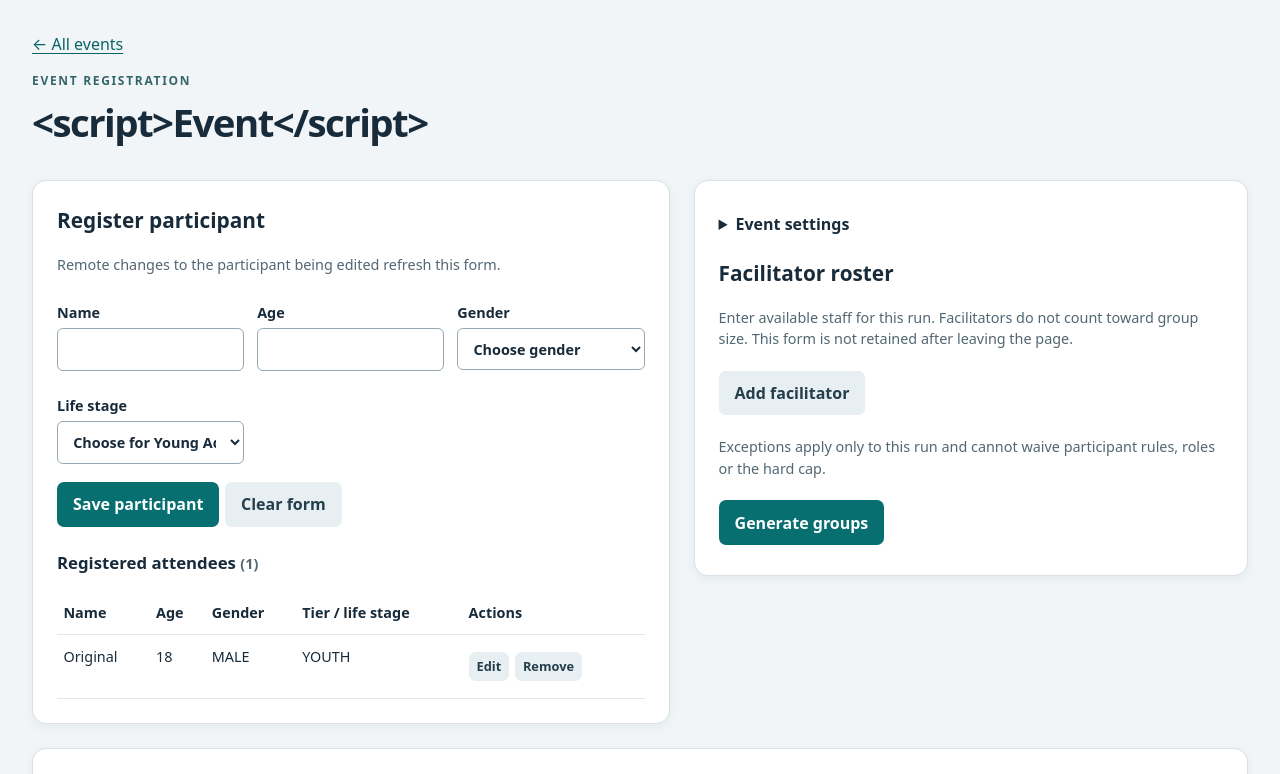
preserves participant drafts when remote configuration changes only the derived tier
Step 1. Click the button "Edit" → click(489, 666), box [469,652,509,681]
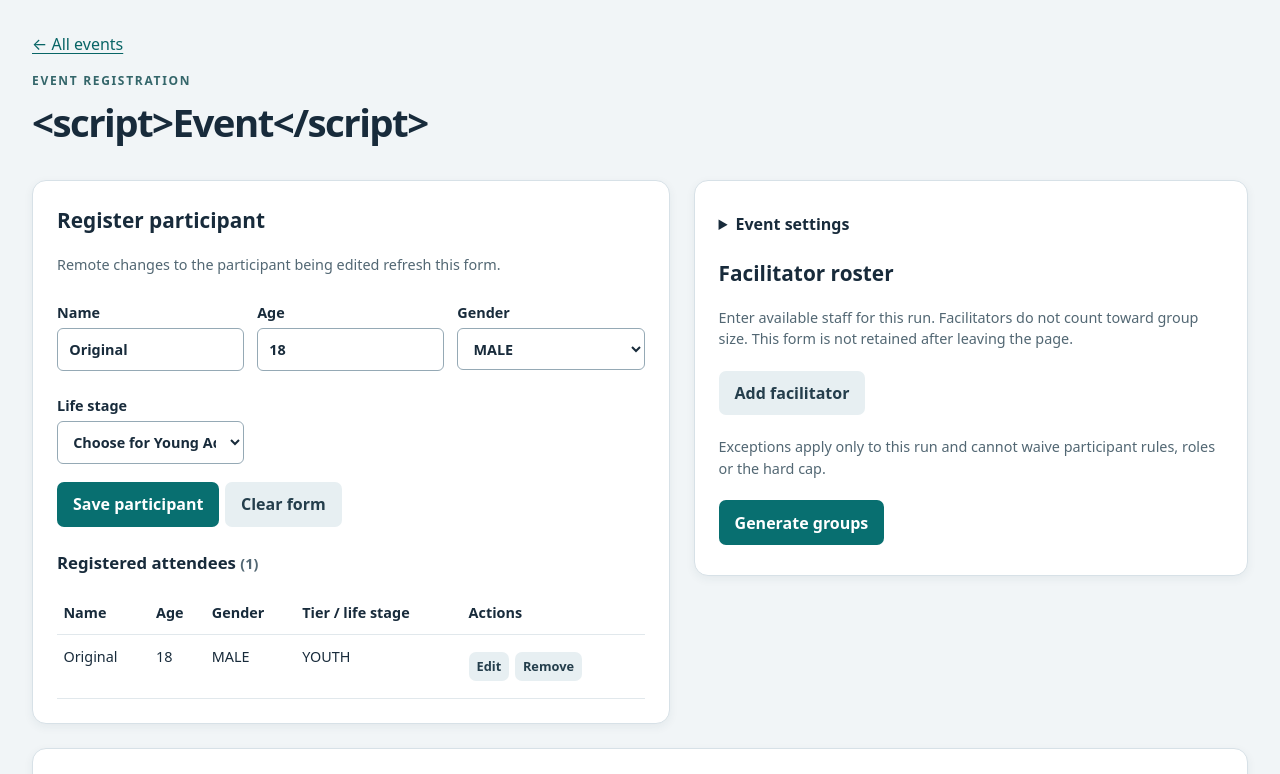
Step 2. Replace the text in the field labelled "Name" with "Unsaved name" → (151, 350), box [57,328,244,371]
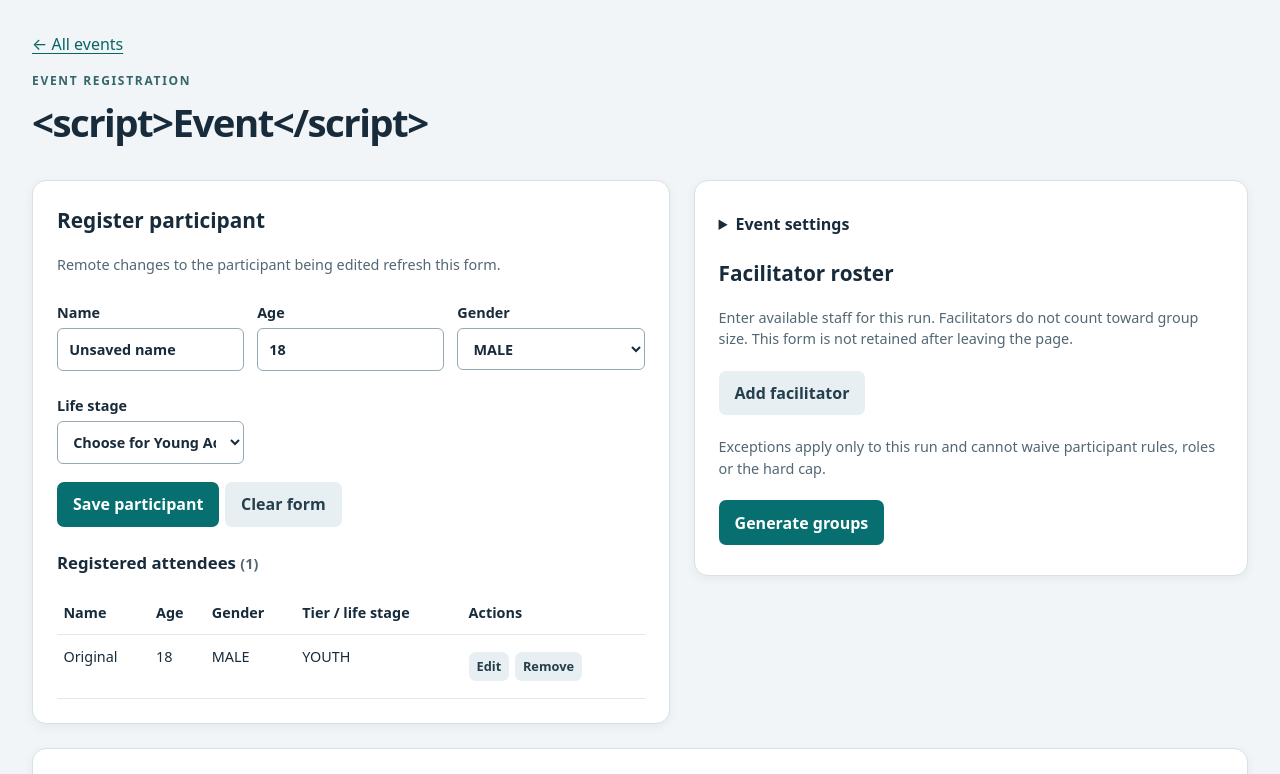
Step 3. Replace the text in the number field labelled "Age" with "28" → (351, 350), box [257,328,444,371]
Wait 2000 ms
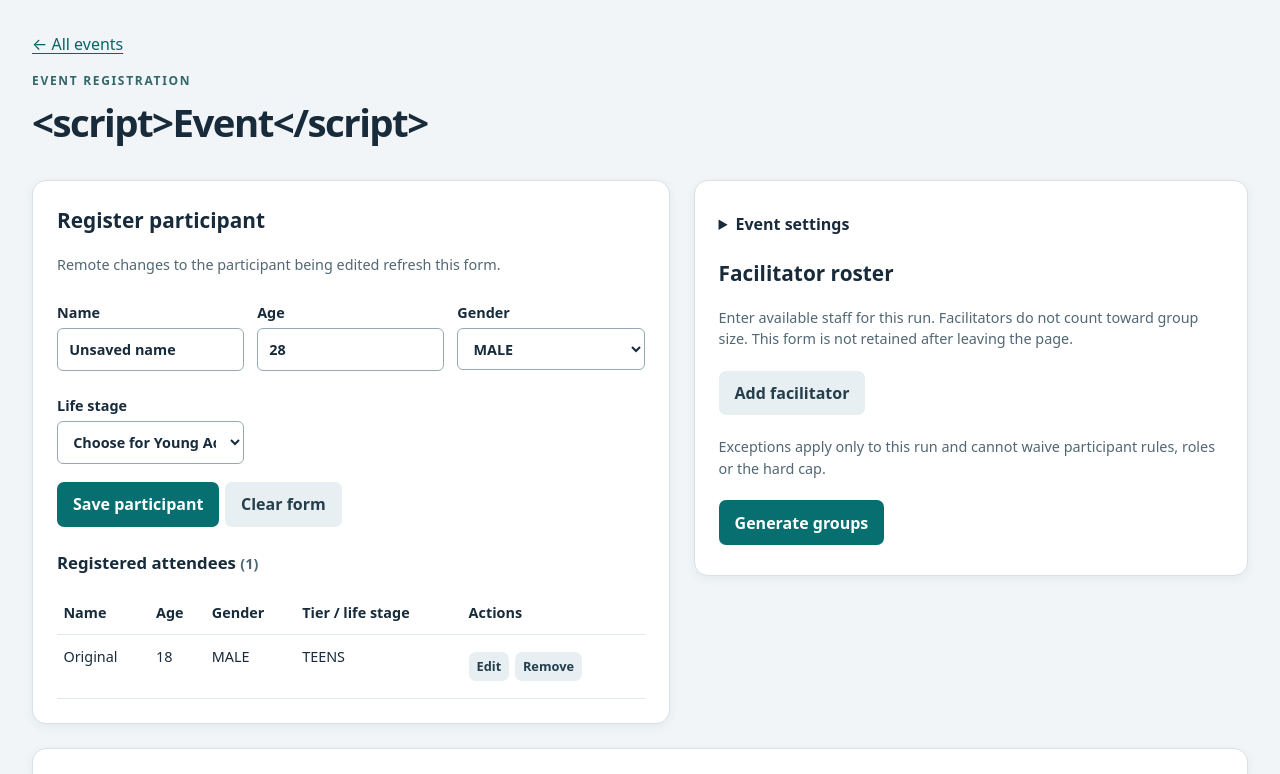
Check: the cell "TEENS" is shown, box [296,635,462,698]
